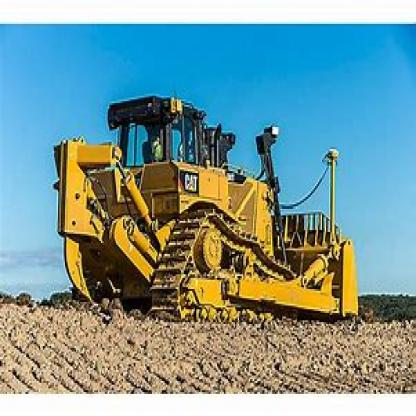bull_dozer/loader/grader: (44, 70, 372, 339)
